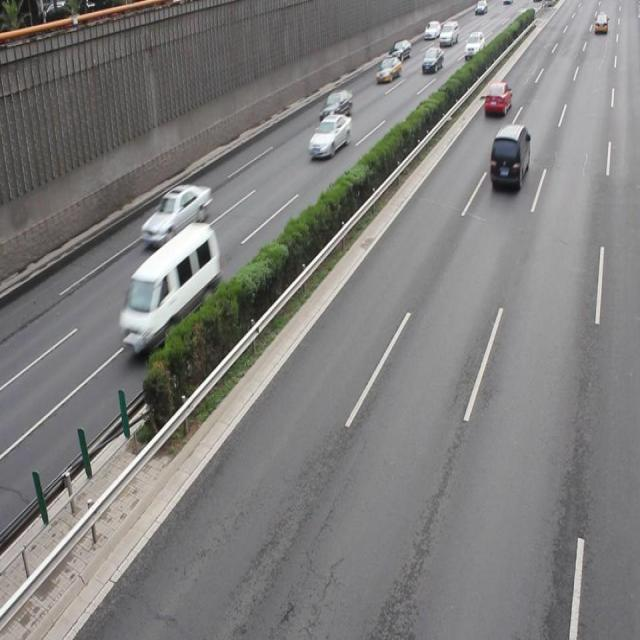car: (140, 182, 211, 246), (308, 111, 350, 159), (319, 88, 352, 120)
truck: (118, 222, 220, 349), (489, 122, 530, 192)
